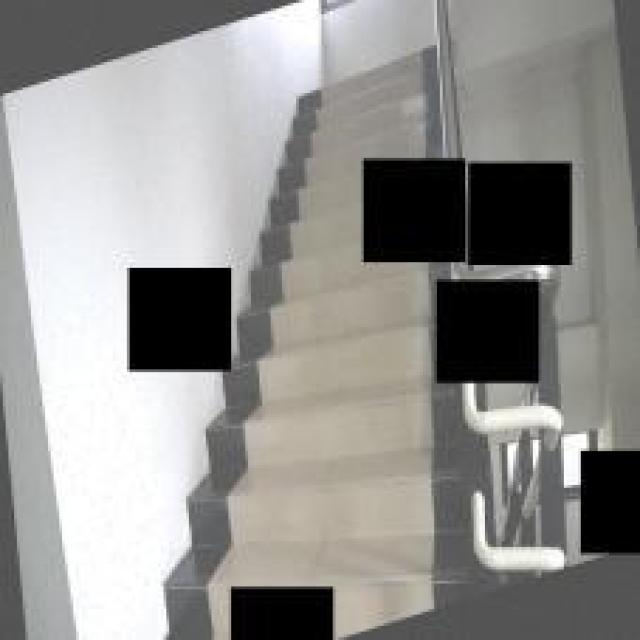upstair: (297, 52, 446, 159)
